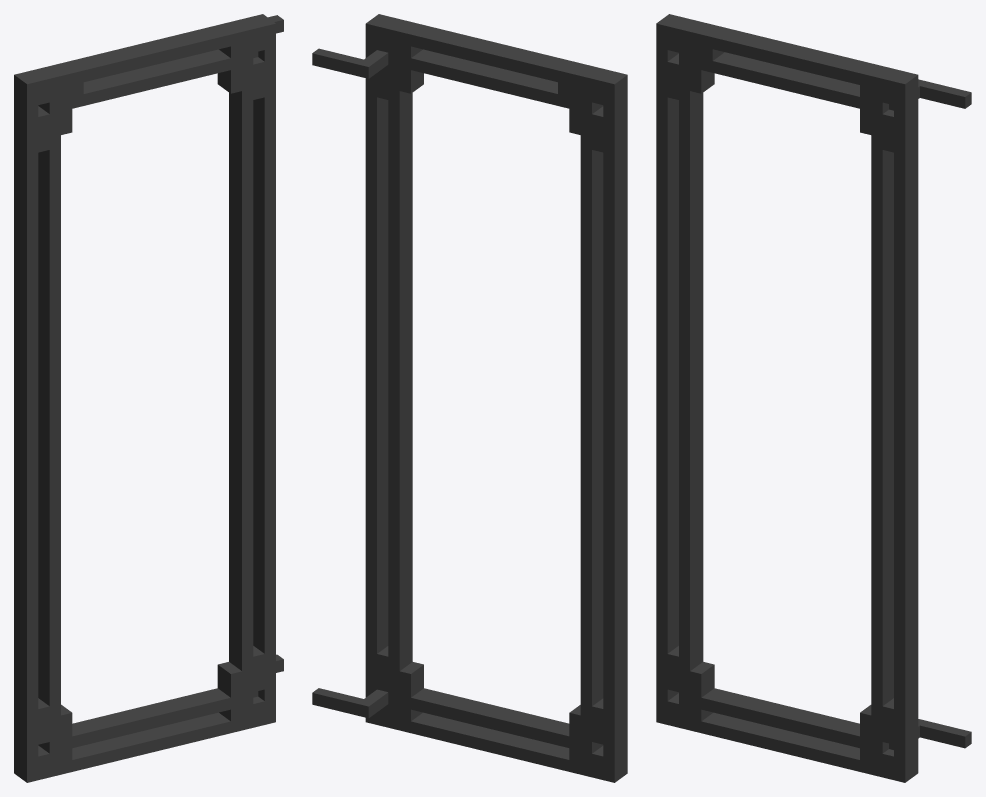
File: Banner big 1.obj
The picture shows the model from 3 angles, left to right: view 1: azimuth 30°, elevation 25°; view 2: azimuth 150°, elevation 25°; view 3: azimuth 330°, elevation 25°; orthographic projection.
Bounding box in the file's own units: 2.5 × 5.9 × 0.5.
1 material, 1 textured.
